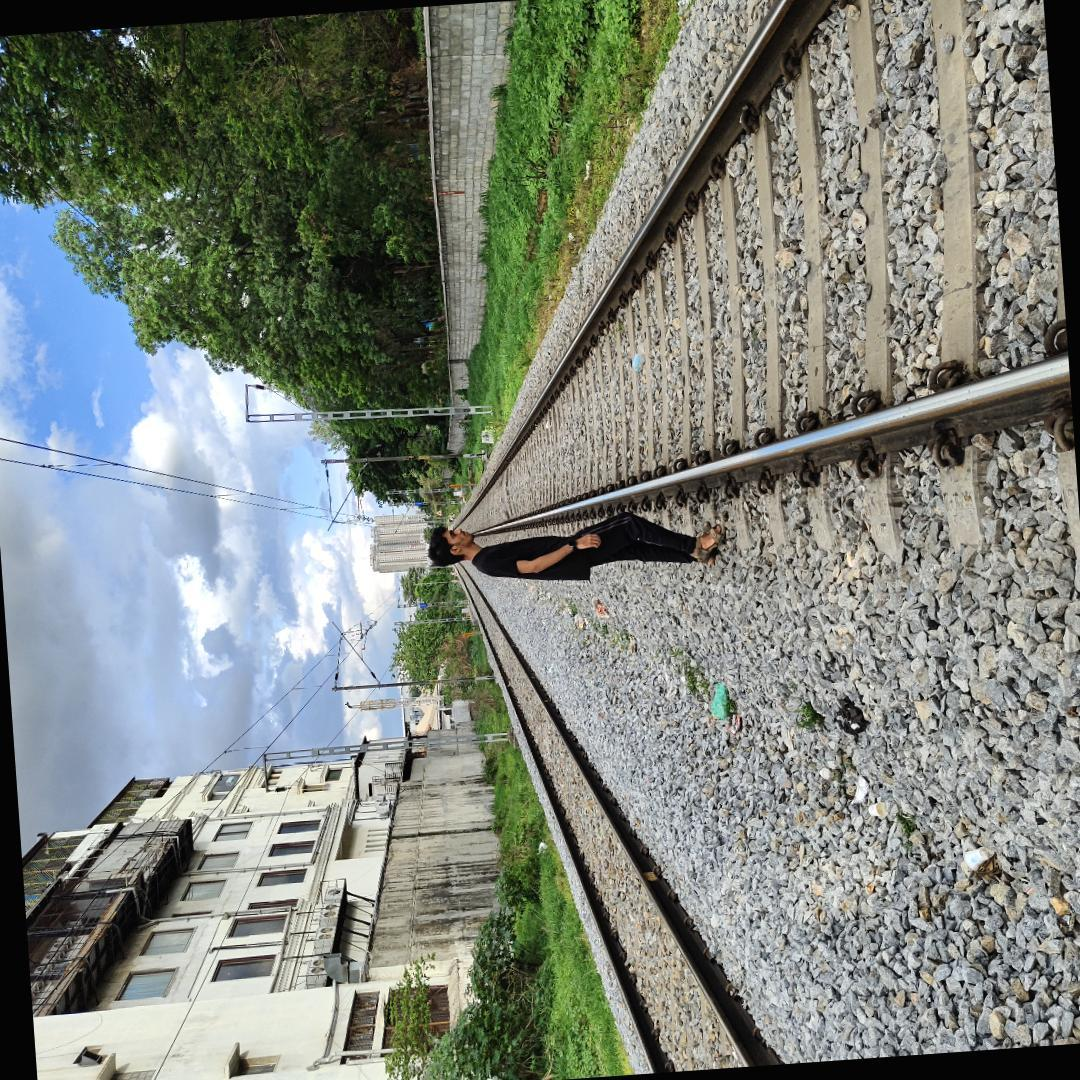standing: (434, 490, 738, 614)
